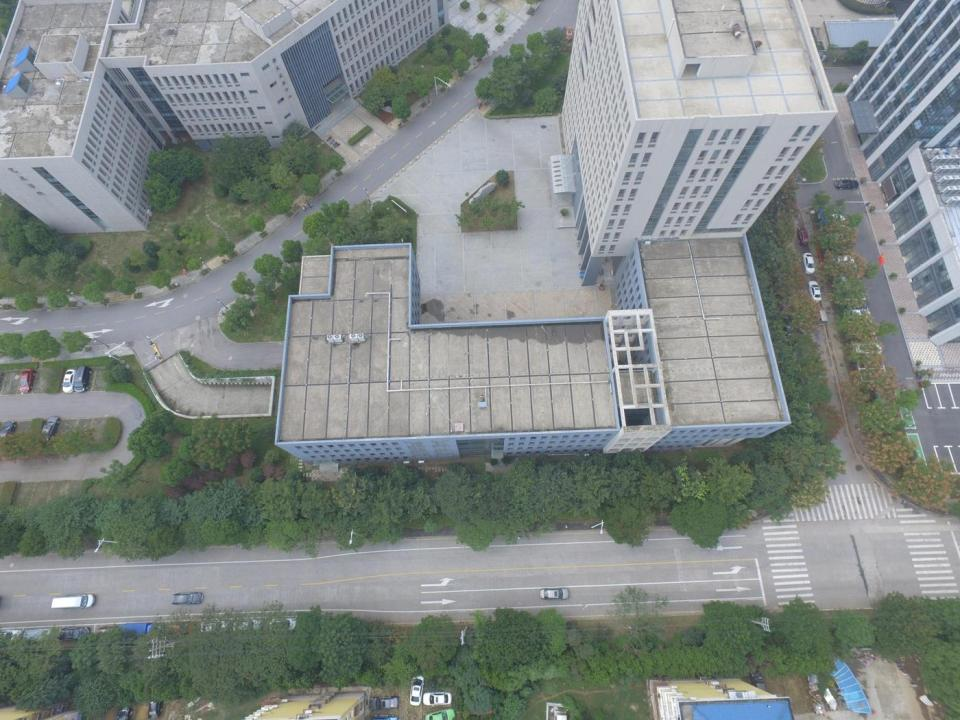car: (750, 670, 769, 702), (39, 415, 60, 441), (171, 591, 203, 606), (22, 628, 53, 643), (864, 389, 895, 404), (409, 676, 424, 706), (422, 692, 452, 707), (57, 627, 90, 640), (201, 619, 229, 634), (369, 696, 399, 710), (148, 690, 163, 718), (19, 369, 35, 393), (0, 420, 16, 444), (424, 708, 456, 720), (233, 619, 262, 632), (165, 622, 193, 635), (62, 369, 77, 393), (539, 588, 568, 600), (271, 618, 297, 631), (776, 287, 790, 310), (854, 344, 882, 355), (808, 280, 822, 302), (97, 627, 120, 640), (802, 252, 815, 274), (0, 629, 23, 641), (847, 309, 871, 320), (844, 300, 870, 310), (782, 317, 795, 336), (834, 180, 858, 190), (116, 706, 132, 720), (797, 227, 809, 245), (832, 255, 854, 264), (824, 213, 845, 222), (852, 73, 870, 81), (555, 27, 563, 42), (565, 27, 573, 41)
truck: (119, 622, 162, 638)
van: (50, 594, 94, 609), (72, 366, 92, 392), (816, 307, 828, 325)
